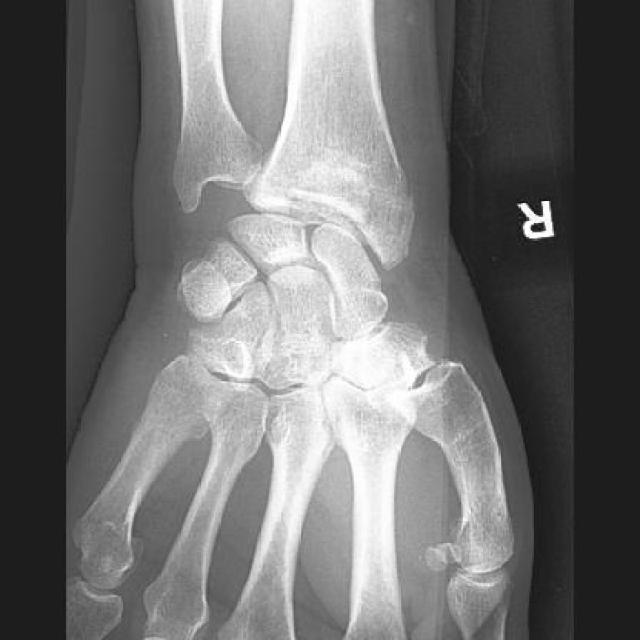Fracture: (289, 154, 420, 250)
